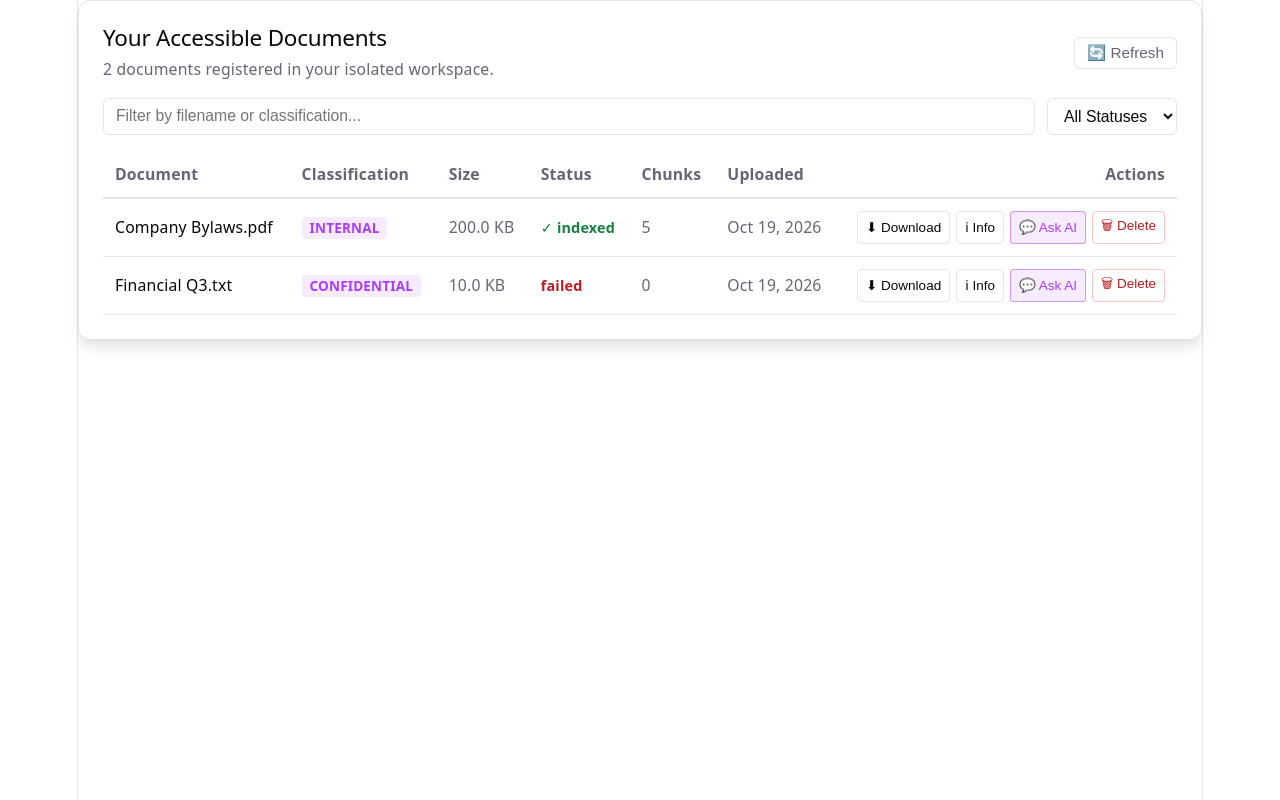
it: DocumentList Component › cancels deletion when cancel button is clicked in confirmation dialog
The width and height of the screenshot is (1280, 800).
Click the button with test id "delete-button-doc-1": x=1128, y=227 left=1092, top=211, right=1165, bottom=244
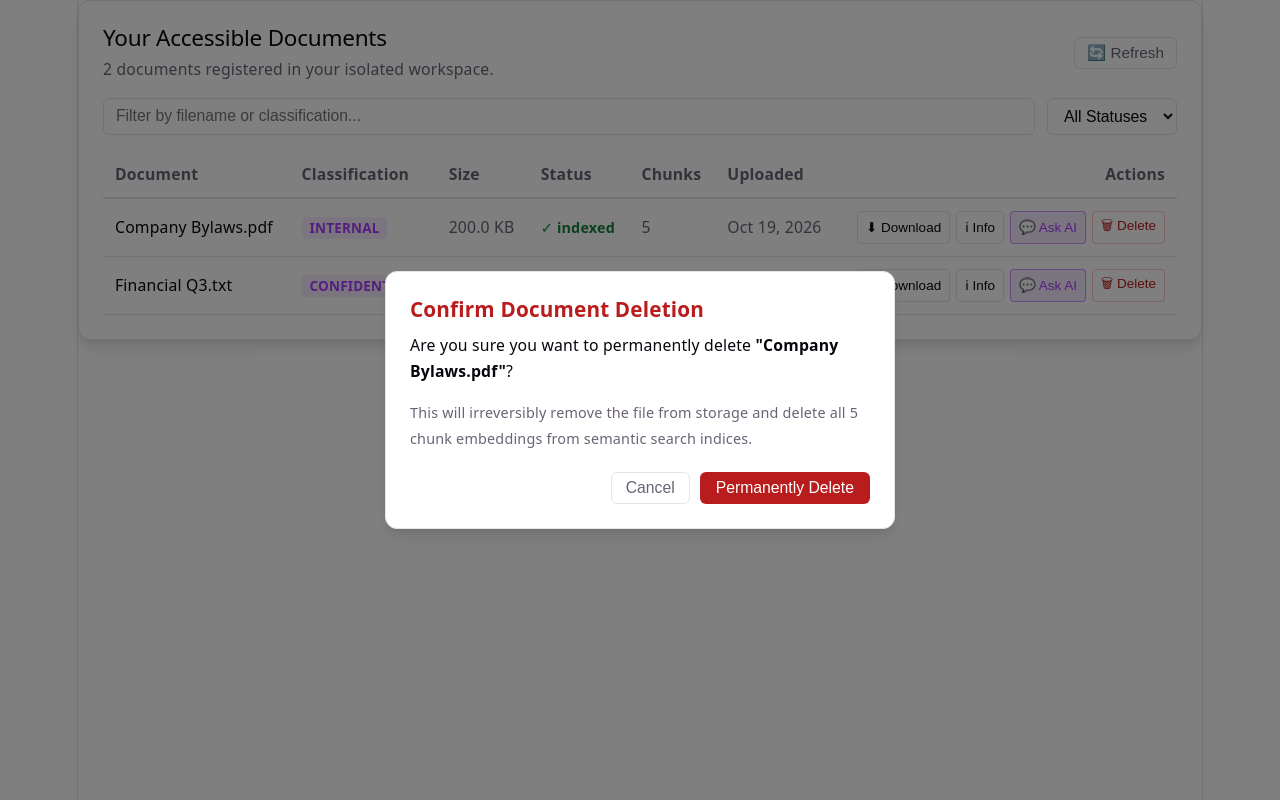
Click the button with test id "cancel-delete-button": x=650, y=488 left=611, top=472, right=690, bottom=504
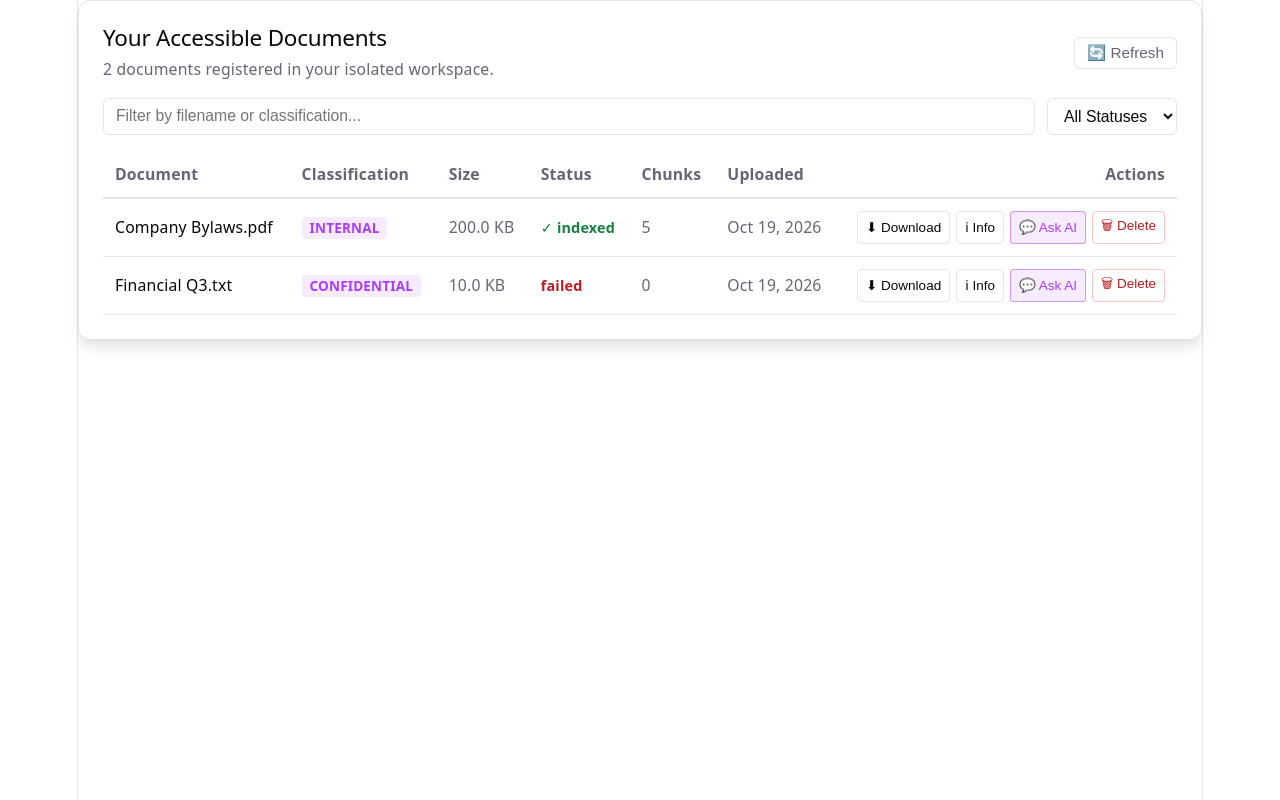
Check: the element with test id "delete-confirmation-dialog" is gone
